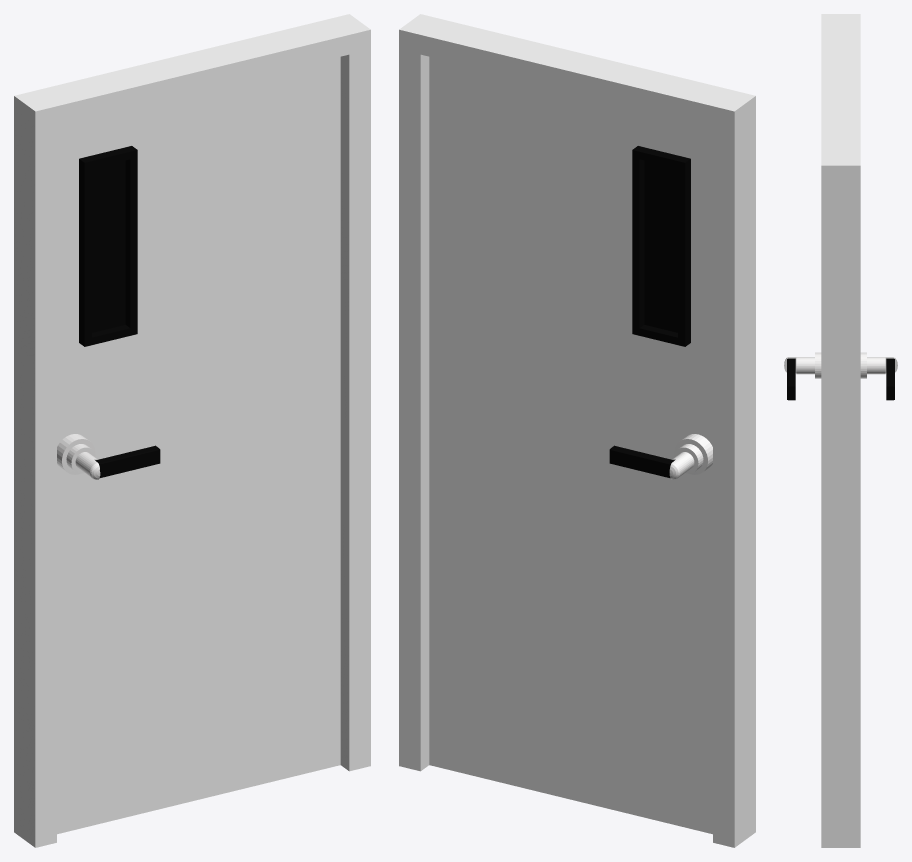
Rendered from Door.fbx.
3 views of the same model, side by side, from view 1: azimuth 30°, elevation 25°; view 2: azimuth 150°, elevation 25°; view 3: azimuth 270°, elevation 25° (orthographic). The views are drawn at different scales.
Parts seen in each view (by area): view 1: puerta; view 2: puerta; view 3: puerta.
Part boxes in pixels (x1=…): puerta: x1=14, y1=14, x2=370, y2=847; puerta: x1=399, y1=14, x2=755, y2=847; puerta: x1=784, y1=14, x2=897, y2=847.
Bounding box in the file's own units: 285 × 598 × 90.47.
